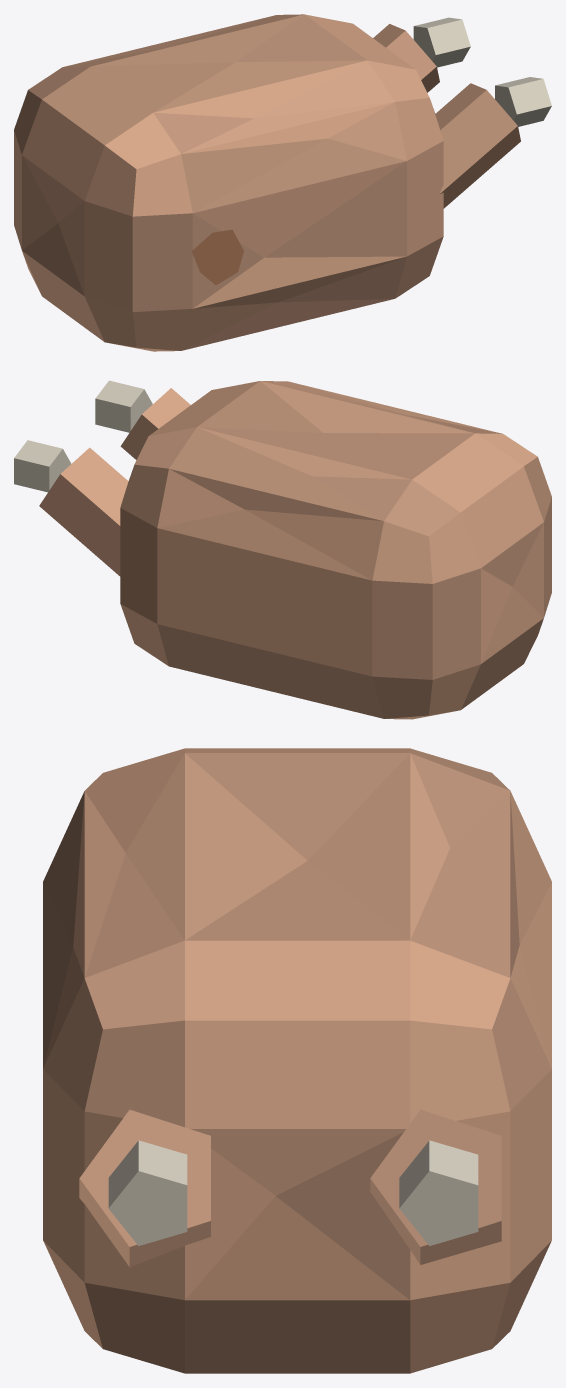
File: meat_raw_ptitsa_idle.glb
The picture shows the model from 3 angles, top to bottom: view 1: azimuth 30°, elevation 25°; view 2: azimuth 150°, elevation 25°; view 3: azimuth 270°, elevation 25°; orthographic projection. The views are drawn at different scales.
Visible parts, largest first — view 1: meat_raw_ptitsa_idle; view 2: meat_raw_ptitsa_idle; view 3: meat_raw_ptitsa_idle.
Boxes of the visible parts, <box> form: meat_raw_ptitsa_idle: <box>14,14,551,351</box>; meat_raw_ptitsa_idle: <box>14,380,551,719</box>; meat_raw_ptitsa_idle: <box>43,748,551,1373</box>.
Size of the model in its own units: 0.127 by 0.065 by 0.074.
1 material, 1 textured.
